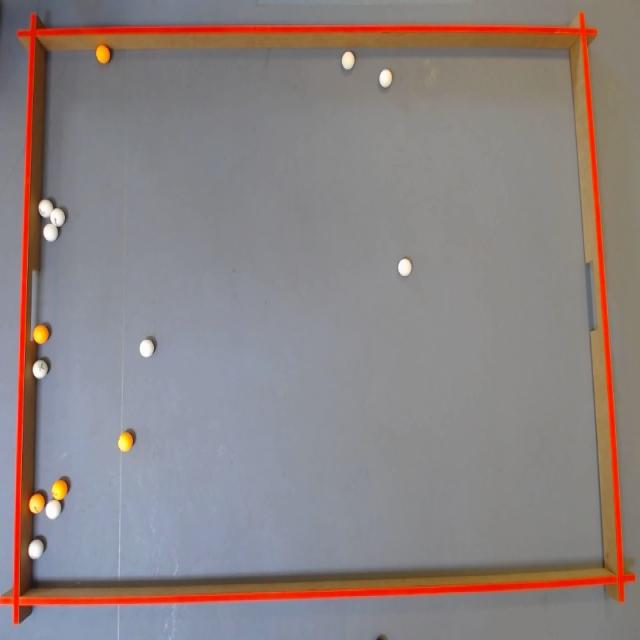orange_ball: (51, 479, 68, 501), (29, 493, 45, 514), (33, 324, 49, 344), (118, 432, 133, 452), (96, 44, 110, 64)
white_ball: (28, 538, 44, 559), (50, 208, 66, 228), (38, 198, 54, 218), (46, 499, 61, 520), (33, 360, 48, 379), (43, 223, 58, 242), (140, 338, 154, 358), (341, 51, 355, 70), (379, 69, 392, 88), (398, 258, 411, 276)
